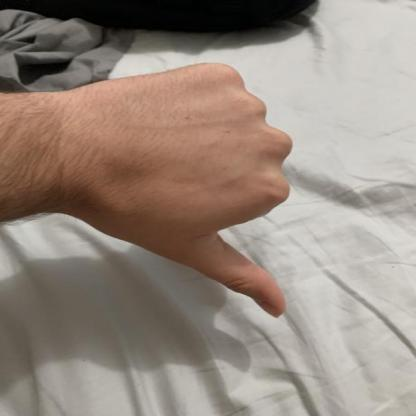Thumbs-Down: (23, 54, 304, 327)
